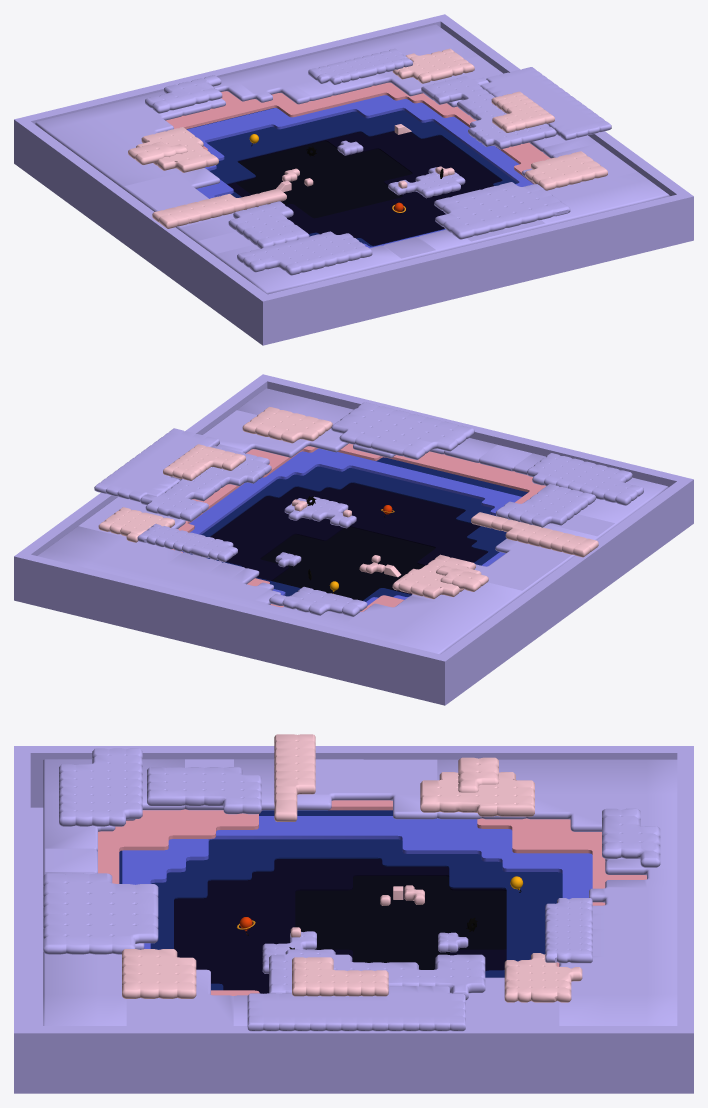
File: BGmodelling.fbx
3 renders of one model, top to bottom at view 1: azimuth 30°, elevation 25°; view 2: azimuth 150°, elevation 25°; view 3: azimuth 270°, elevation 25°, orthographic. The views are drawn at different scales.
Visible parts, largest first — view 1: floor0, floor6, floor2, floor1, floor3, floor4, BG_cloud7, floor5, BG_cloud4, BG_cloud3, BG_cloud8, BG_cloud9 (+9 smaller); view 2: floor0, floor6, floor2, floor1, floor3, floor4, BG_cloud7, floor5, BG_cloud4, BG_cloud3, BG_cloud8, BG_cloud9 (+9 smaller); view 3: floor0, floor6, floor3, floor2, floor1, floor4, floor5, BG_cloud4, BG_cloud7, BG_cloud8, BG_cloud3, BG_cloud9 (+9 smaller).
Boxes of the visible parts, <box> form: floor0: <box>14,14,693,345</box>; floor6: <box>35,24,669,294</box>; floor2: <box>227,131,502,245</box>; floor1: <box>237,141,412,218</box>; floor3: <box>186,108,517,246</box>; floor4: <box>187,95,533,248</box>; BG_cloud7: <box>434,182,570,239</box>; floor5: <box>165,82,550,183</box>; BG_cloud4: <box>480,67,611,140</box>; BG_cloud3: <box>421,76,556,149</box>; BG_cloud8: <box>237,231,372,275</box>; BG_cloud9: <box>228,201,309,248</box>; floor0: <box>14,374,693,705</box>; floor6: <box>37,388,668,654</box>; floor2: <box>210,483,487,594</box>; floor1: <box>261,527,435,600</box>; floor3: <box>190,457,527,601</box>; floor4: <box>182,448,521,605</box>; BG_cloud7: <box>331,402,474,459</box>; floor5: <box>171,443,545,611</box>; BG_cloud4: <box>94,428,219,502</box>; BG_cloud3: <box>140,445,271,521</box>; BG_cloud8: <box>527,453,643,505</box>; BG_cloud9: <box>496,484,595,527</box>; floor0: <box>14,746,693,1093</box>; floor6: <box>43,759,677,1025</box>; floor3: <box>119,810,562,990</box>; floor2: <box>174,859,506,993</box>; floor1: <box>295,876,506,969</box>; floor4: <box>122,816,592,948</box>; floor5: <box>98,800,646,995</box>; BG_cloud4: <box>247,986,465,1031</box>; BG_cloud7: <box>43,873,158,954</box>; BG_cloud8: <box>59,748,142,826</box>; BG_cloud3: <box>269,949,485,999</box>; BG_cloud9: <box>147,767,261,814</box>.
Size of the model in its own units: 1420 by 184 by 1406.
